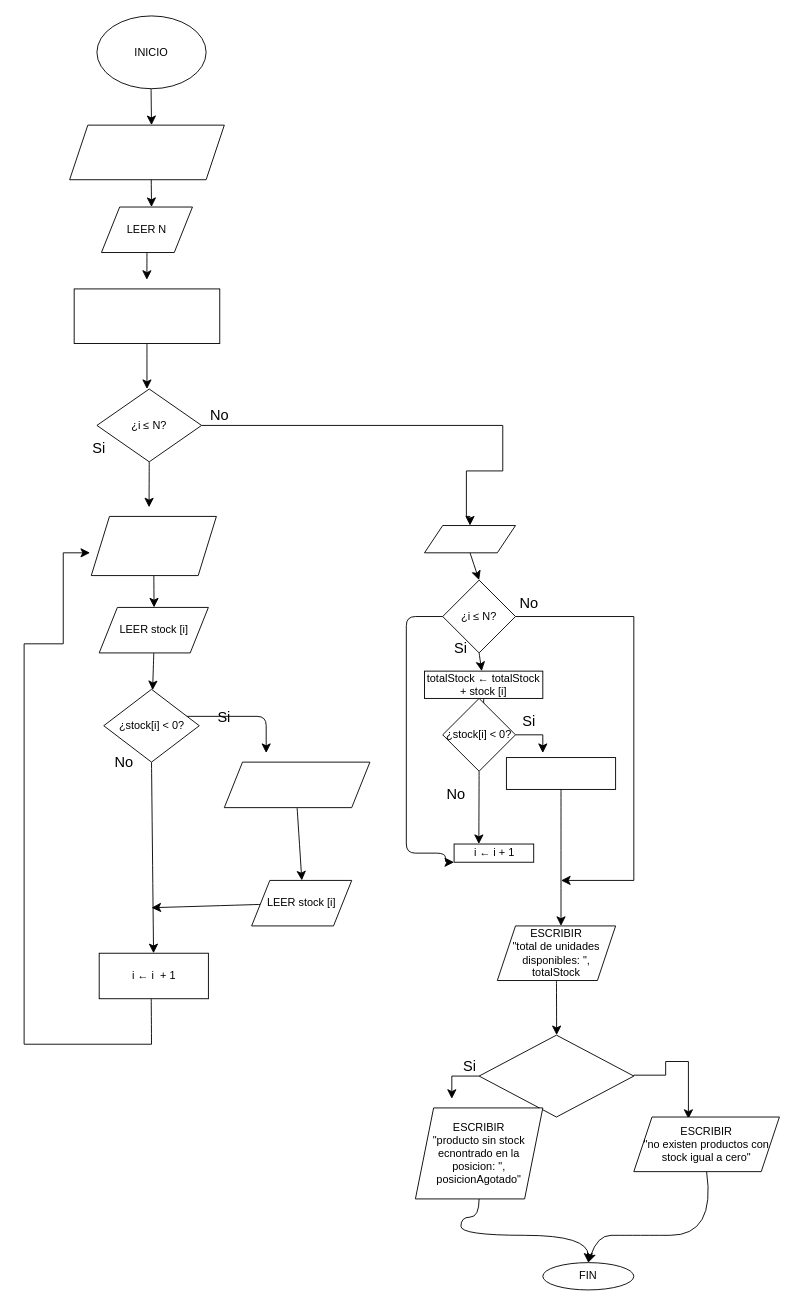
Image size: 795x1306. Some labels were removed from this diagram. The shapes that lost their labels are listed below. From the top down, each one's centre as x and y in pixels, then its label:
[146,152]: ESCRIBIR "ingrese la cantidad de los productos:"
[146,316]: totalStock ← 0 posicionAgotado← -1
[153,546]: ESCRIBIR "ingrese el stock del producto", i
[470,539]: I ← 1
[296,784]: ESCRIBIR "el valor debe ser mayor o igual a cero"
[561,773]: posicionAgostado ← i
[556,1075]: ¿posicionAgostado <> -1?
